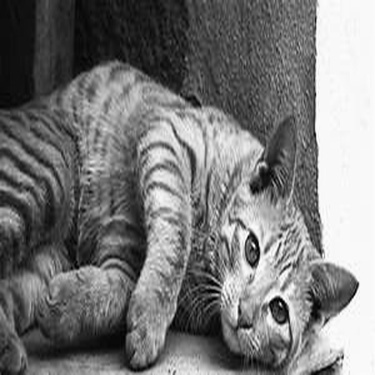cat: (7, 58, 362, 369)
